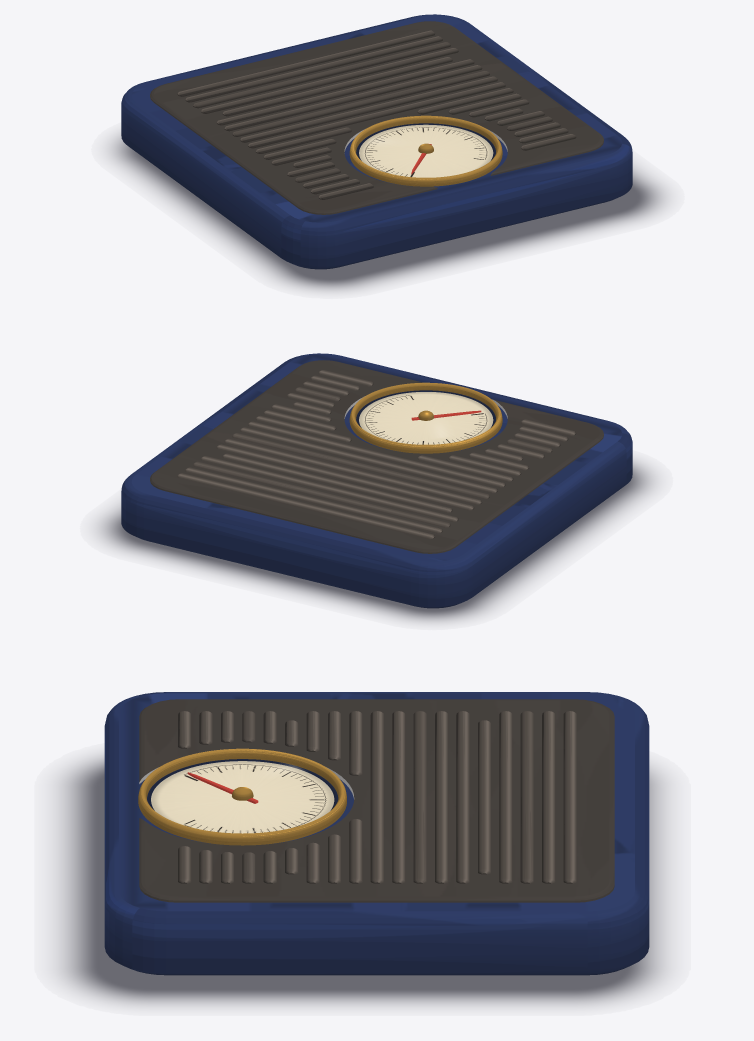
The model's file is spring_scale_meshopt.glb.
The picture shows the model from 3 angles, top to bottom: view 1: azimuth 30°, elevation 25°; view 2: azimuth 150°, elevation 25°; view 3: azimuth 270°, elevation 25°; orthographic projection. The views are drawn at different scales.
Parts seen in each view (by area): view 1: body, contact_shadow, readout; view 2: body, contact_shadow, readout; view 3: body, contact_shadow, readout.
Boxes of the visible parts, x1=… form: body: x1=121, y1=14, x2=632, y2=269; contact_shadow: x1=111, y1=135, x2=665, y2=290; readout: x1=417, y1=155, x2=473, y2=176; body: x1=121, y1=353, x2=632, y2=608; contact_shadow: x1=99, y1=461, x2=653, y2=621; readout: x1=414, y1=396, x2=473, y2=417; body: x1=104, y1=692, x2=649, y2=975; contact_shadow: x1=60, y1=756, x2=664, y2=1004; readout: x1=174, y1=784, x2=212, y2=814.
Size of the model in its own units: 0.4 by 0.0541 by 0.4.
Materials: 3 (3 with a texture image).
